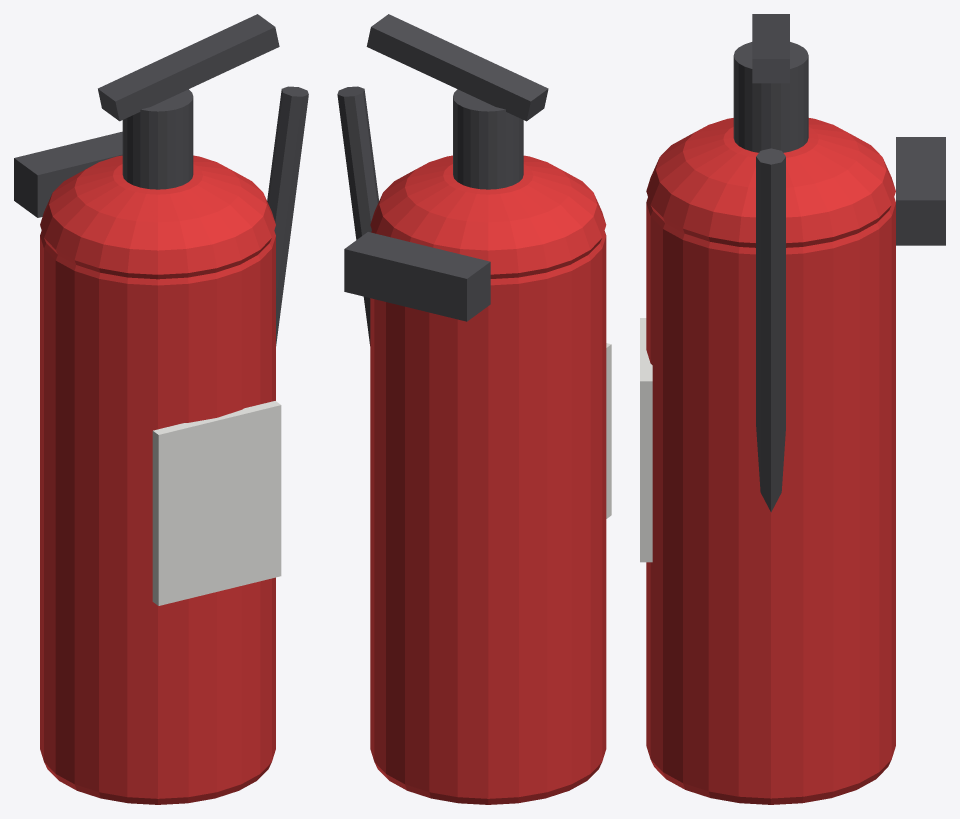
Rendered from fire_extinguisher.gltf.
3 views of the same model, side by side, from view 1: azimuth 30°, elevation 25°; view 2: azimuth 150°, elevation 25°; view 3: azimuth 270°, elevation 25° (orthographic). The views are drawn at different scales.
Parts seen in each view (by area): view 1: Body, Label, Dome, Handle, Neck, Hose, WallBracket; view 2: Body, Dome, WallBracket, Handle, Neck, Hose, Label; view 3: Body, Dome, Hose, Neck, WallBracket, Label, Handle.
Part boxes in pixels (x1,y1,x2,y2): Body: (40, 231, 275, 804); Label: (152, 401, 281, 605); Dome: (40, 155, 275, 279); Handle: (98, 14, 279, 121); Neck: (122, 89, 193, 189); Hose: (267, 86, 308, 345); WallBracket: (14, 131, 122, 217); Body: (370, 231, 606, 804); Dome: (370, 155, 606, 278); WallBracket: (344, 232, 490, 321); Handle: (366, 14, 548, 121); Neck: (453, 89, 523, 189); Hose: (337, 86, 378, 345); Label: (606, 343, 611, 518); Body: (646, 197, 895, 804); Dome: (646, 118, 895, 247); Hose: (756, 148, 785, 512); Neck: (733, 42, 808, 152); WallBracket: (896, 137, 945, 245); Label: (640, 318, 652, 562); Handle: (752, 14, 789, 83).
Size of the model in its own units: 0.2462 by 0.6664 by 0.245.
